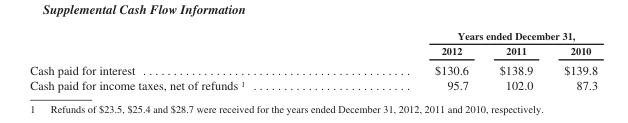table: (29, 29, 597, 91)
table column: (29, 29, 339, 91), (339, 29, 483, 91), (483, 29, 547, 91), (547, 29, 597, 91)
table column header: (29, 29, 597, 59)
table row: (29, 59, 597, 77), (29, 42, 597, 59), (29, 77, 597, 91), (29, 29, 597, 42)
table spanning cell: (339, 29, 597, 42)
